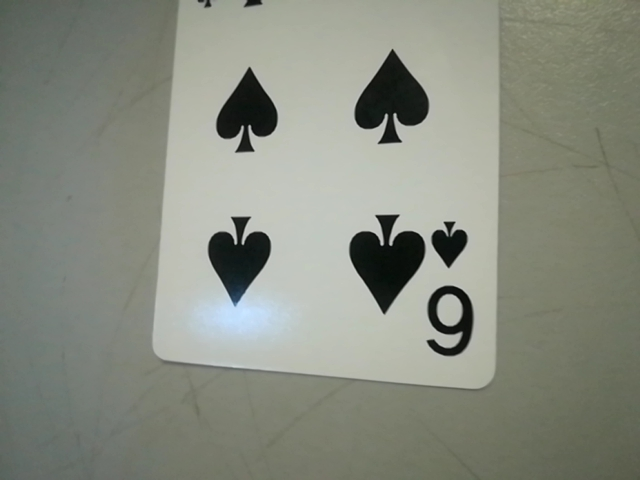ht 6: (418, 211, 489, 372)
